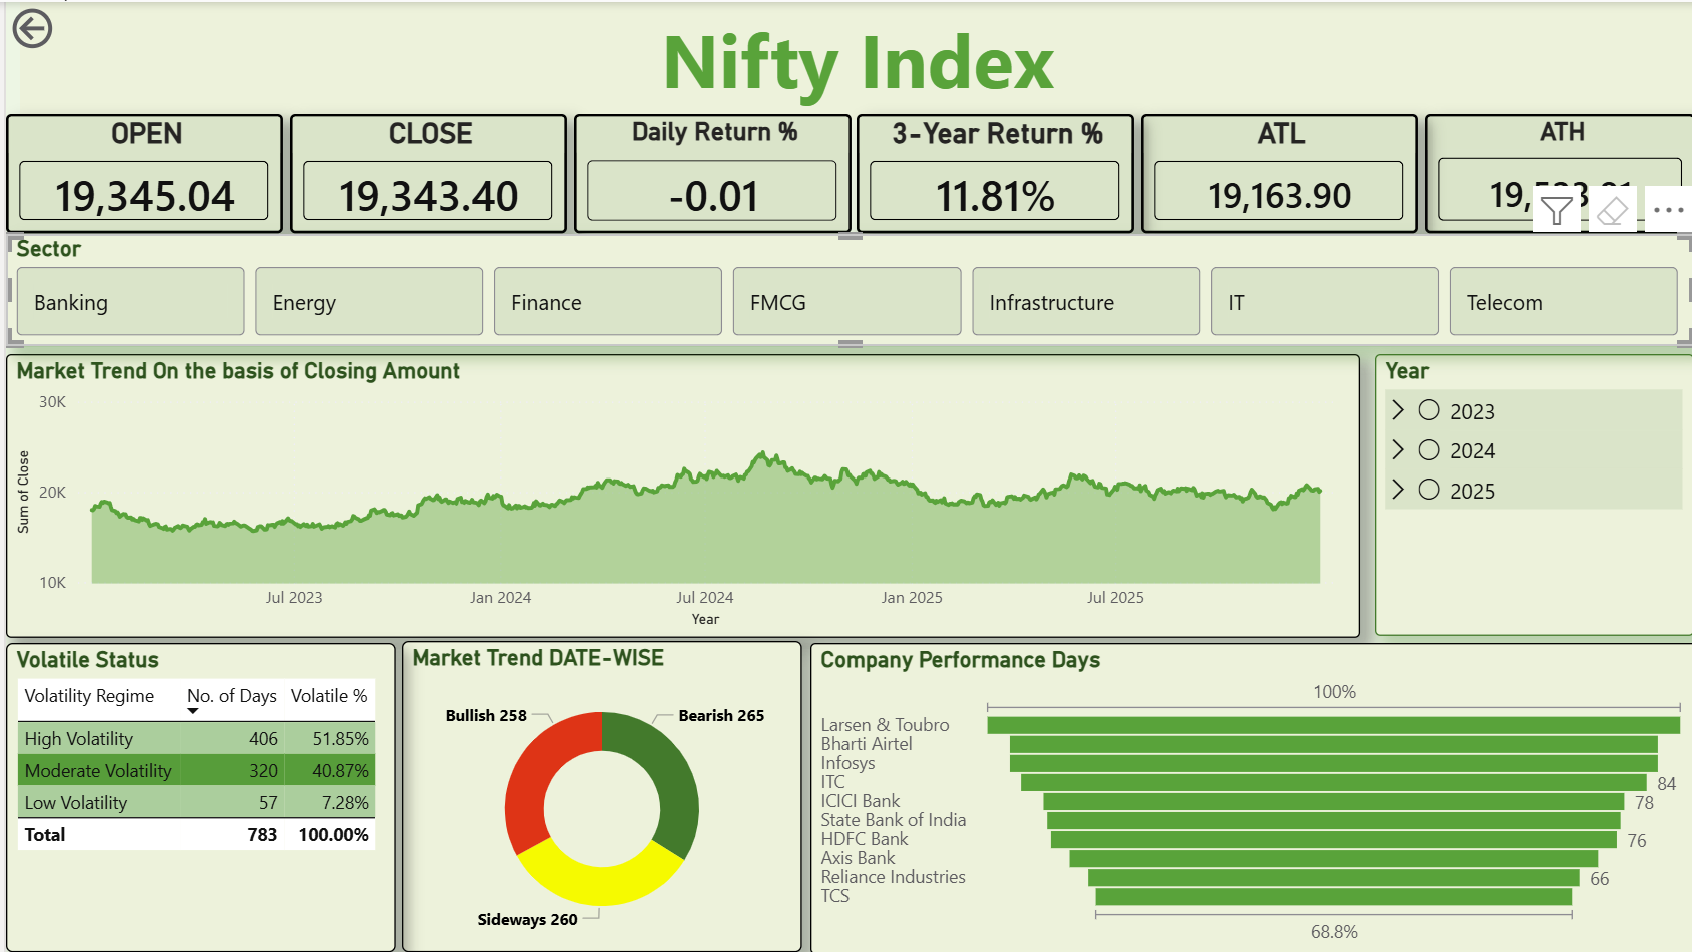

The dashboard page shown, as its layout file describes it:
{"tool":"powerbi","page":{"name":"Stock Market","canvas":[1280,720],"ordinal":1},"visuals":[{"type":"areaChart","title":"Market Trend On the basis of Closing Amount ","fields":{"Category":["Enhanced_Nifty50_Data.Date.Variation.Date Hierarchy.Year","Enhanced_Nifty50_Data.Date.Variation.Date Hierarchy.Quarter","Enhanced_Nifty50_Data.Date.Variation.Date Hierarchy.Month","Enhanced_Nifty50_Data.Date.Variation.Date Hierarchy.Day"],"Y":["Sum(Enhanced_Nifty50_Data.Close)"]},"box":[0,267,1025.8,214.4],"z":0},{"type":"donutChart","title":"Market Trend DATE-WISE","fields":{"Category":["Enhanced_Nifty50_Data.Market Trend"],"Y":["CountNonNull(Enhanced_Nifty50_Data.Date)"]},"box":[301,483.8,303.2,235.8],"z":1000},{"type":"tableEx","title":"Volatile Status ","fields":{"Values":["Enhanced_Nifty50_Data.Volatility Regime","Table.No. of Days","Nifty 50 Dax.Volatile"]},"box":[0,485.4,295.5,234.3],"z":2000},{"type":"textbox","box":[10.6,0,1269.4,89.5],"z":3000},{"type":"cardVisual","title":"OPEN ","fields":{"Data":["Table.Average Open"]},"box":[0,84.2,209.8,90.3],"z":4000},{"type":"cardVisual","title":"ATH","fields":{"Data":["Table.Nifty 50 ATH"]},"box":[1074.8,84.2,205.2,90.3],"z":5000},{"type":"cardVisual","title":"ATL","fields":{"Data":["Table.Nifty 50 ATL"]},"box":[860.5,84.2,209.8,90.3],"z":6000},{"type":"cardVisual","title":"3-Year Return %","fields":{"Data":["Table.Growth Rate"]},"box":[644.6,84.2,209.8,90.3],"z":7000},{"type":"cardVisual","title":"CLOSE","fields":{"Data":["Table.Average Close"]},"box":[215.9,84.2,209.8,90.3],"z":8000},{"type":"actionButton","box":[0,0,100,40],"z":9000},{"type":"listSlicer","fields":{"Values":["Enhanced_Nifty50_Data.Date.Variation.Date Hierarchy.Year","Enhanced_Nifty50_Data.Date.Variation.Date Hierarchy.Quarter","Enhanced_Nifty50_Data.Date.Variation.Date Hierarchy.Month","Enhanced_Nifty50_Data.Date.Variation.Date Hierarchy.Day"]},"box":[1038.1,266.4,241.9,212.8],"z":10000},{"type":"advancedSlicerVisual","fields":{"Values":["Enhanced_Nifty50_Data.Sector"]},"box":[0,176,1280,85],"z":11000},{"type":"cardVisual","title":"Daily Return % ","fields":{"Data":["Table.Daily Return %"]},"box":[430.2,84.2,209.8,90.3],"z":12000},{"type":"funnel","title":"Company Performance Days ","fields":{"Y":["CountNonNull(Enhanced_Nifty50_Data.Date)"],"Category":["Enhanced_Nifty50_Data.Best Performing Company"]},"box":[609.4,485.4,672.2,235.8],"z":13000}]}

Visuals, with their boxes in screenshot pixels (x1, y1, x2, y2), scaled from the page's 1280x720 canvas onto the 1692x952 screenshot:
"Market Trend On the basis of Closing Amount " areaChart: left=0, top=353, right=1356, bottom=637
"Market Trend DATE-WISE" donutChart: left=398, top=640, right=799, bottom=951
"Volatile Status " tableEx: left=0, top=642, right=391, bottom=951
textbox: left=14, top=0, right=1691, bottom=118
"OPEN " cardVisual: left=0, top=111, right=277, bottom=231
"ATH" cardVisual: left=1421, top=111, right=1691, bottom=231
"ATL" cardVisual: left=1137, top=111, right=1415, bottom=231
"3-Year Return %" cardVisual: left=852, top=111, right=1129, bottom=231
"CLOSE" cardVisual: left=285, top=111, right=563, bottom=231
actionButton: left=0, top=0, right=132, bottom=53
listSlicer - Enhanced_Nifty50_Data.Date.Variation.Date Hierarchy.Year x Enhanced_Nifty50_Data.Date.Variation.Date Hierarchy.Quarter: left=1372, top=352, right=1691, bottom=634
advancedSlicerVisual - Enhanced_Nifty50_Data.Sector: left=0, top=233, right=1691, bottom=345
"Daily Return % " cardVisual: left=569, top=111, right=846, bottom=231
"Company Performance Days " funnel: left=806, top=642, right=1691, bottom=951
